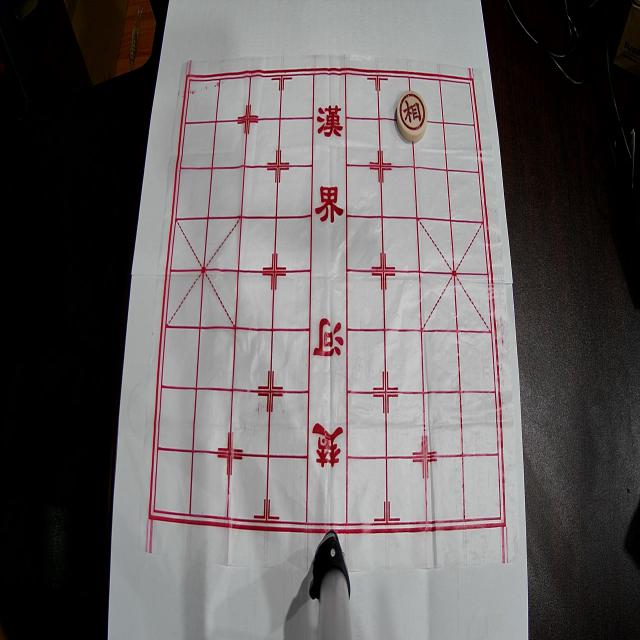red-elephant: (397, 91, 428, 141)
